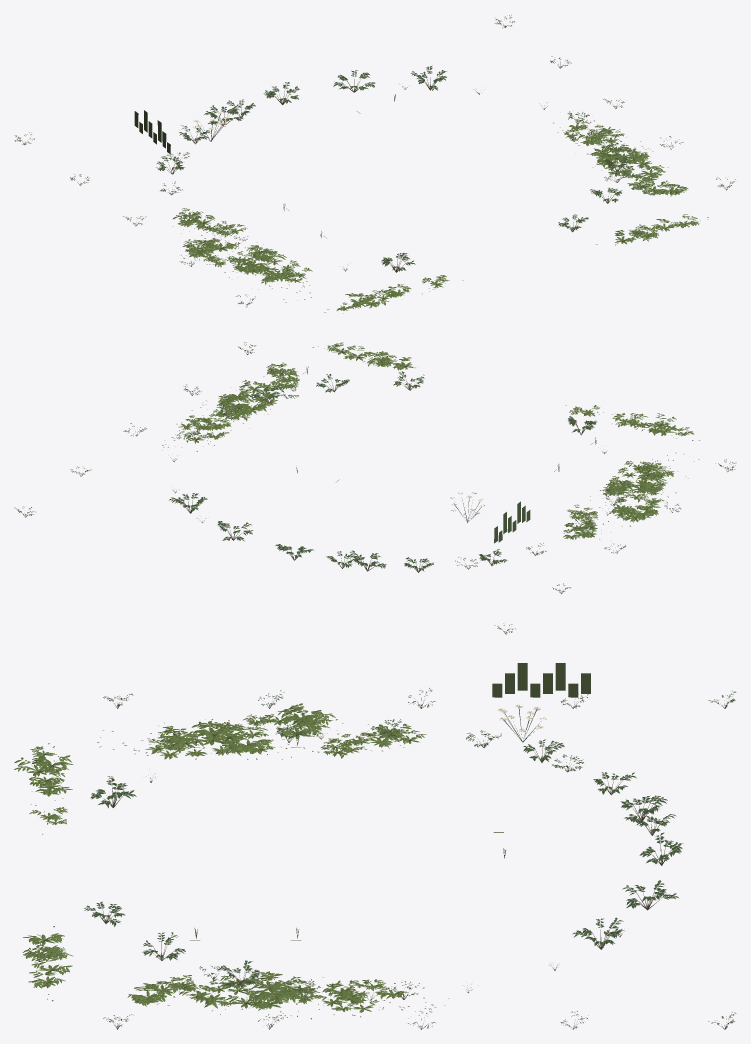
Rendered from qiushuangzhai.glb.
The picture shows the model from 3 angles, top to bottom: view 1: azimuth 30°, elevation 25°; view 2: azimuth 150°, elevation 25°; view 3: azimuth 270°, elevation 25°; orthographic projection. The views are drawn at different scales.
Visible parts, largest first — view 1: Mobile_qiushuangzhai_botanical_bamboo, Mobile_qiushuangzhai_plants; view 2: Mobile_qiushuangzhai_botanical_bamboo, Mobile_qiushuangzhai_plants; view 3: Mobile_qiushuangzhai_botanical_bamboo, Mobile_qiushuangzhai_plants.
Part boxes in pixels (x1=…): Mobile_qiushuangzhai_botanical_bamboo: x1=173, y1=117, x2=699, y2=310; Mobile_qiushuangzhai_plants: x1=14, y1=14, x2=735, y2=307; Mobile_qiushuangzhai_botanical_bamboo: x1=178, y1=342, x2=694, y2=539; Mobile_qiushuangzhai_plants: x1=14, y1=342, x2=736, y2=634; Mobile_qiushuangzhai_botanical_bamboo: x1=14, y1=703, x2=426, y2=1012; Mobile_qiushuangzhai_plants: x1=84, y1=663, x2=736, y2=1029.
Size of the model in its own units: 31.35 by 3.78 by 28.56.
Materials: 4 (3 with a texture image).
